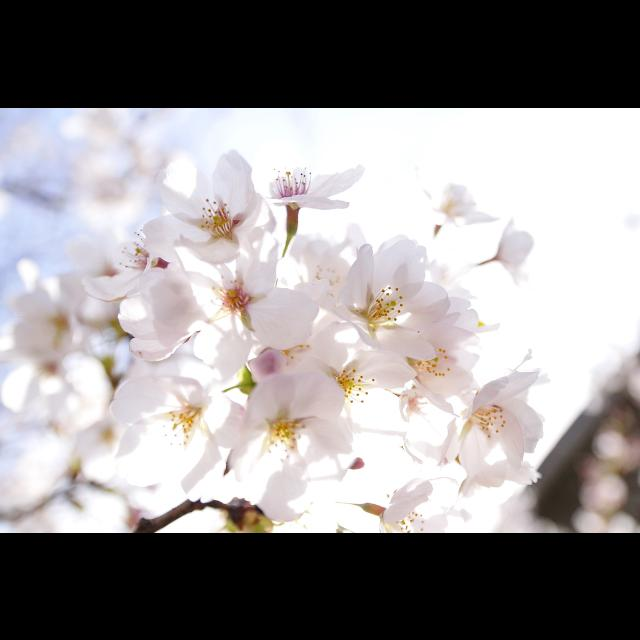Flower: (79, 150, 535, 532), (459, 361, 547, 503)
